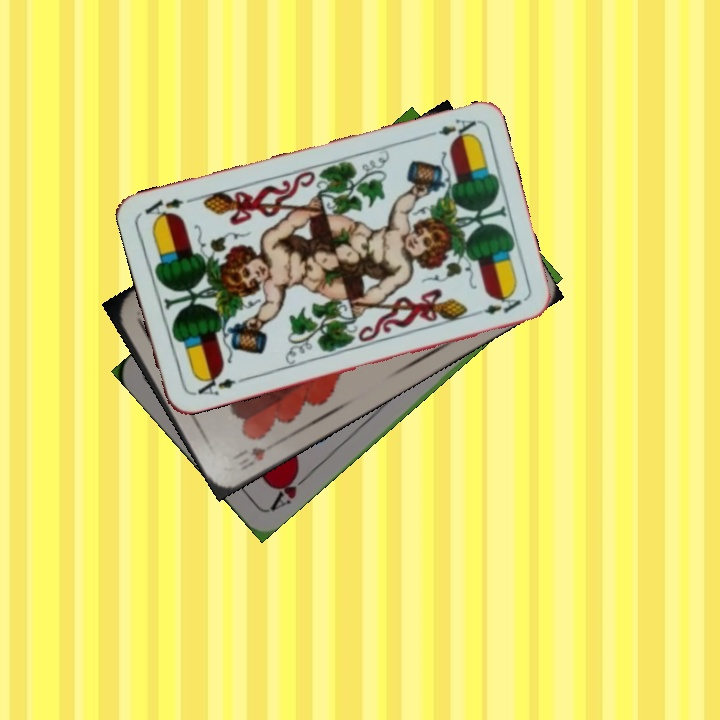EA: (420, 115, 479, 144), (189, 370, 238, 399)
H10: (228, 442, 269, 474)
HA: (265, 465, 314, 514)
